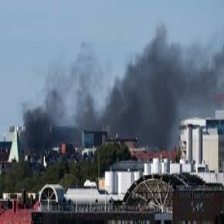smoke: (28, 65, 174, 155)
